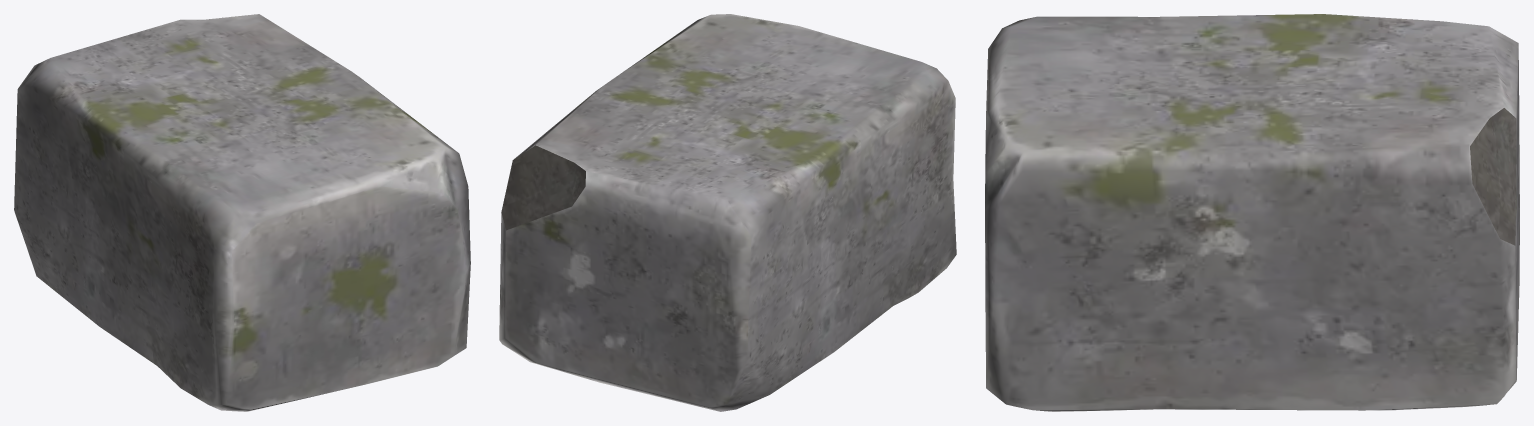
The picture shows the model from 3 angles, left to right: view 1: azimuth 30°, elevation 25°; view 2: azimuth 150°, elevation 25°; view 3: azimuth 270°, elevation 25°; orthographic projection. The views are drawn at different scales.
Parts seen in each view (by area): view 1: SM_Castle_Floor_Stone_01_Dmg_v6_LOD0; view 2: SM_Castle_Floor_Stone_01_Dmg_v6_LOD0; view 3: SM_Castle_Floor_Stone_01_Dmg_v6_LOD0.
Boxes of the visible parts, bbox=[...] form: SM_Castle_Floor_Stone_01_Dmg_v6_LOD0: bbox=[14, 14, 470, 411]; SM_Castle_Floor_Stone_01_Dmg_v6_LOD0: bbox=[499, 14, 956, 411]; SM_Castle_Floor_Stone_01_Dmg_v6_LOD0: bbox=[985, 14, 1519, 411].
Size of the model in its own units: 0.7023 by 0.5549 by 1.03.
2 materials, 2 textured.
